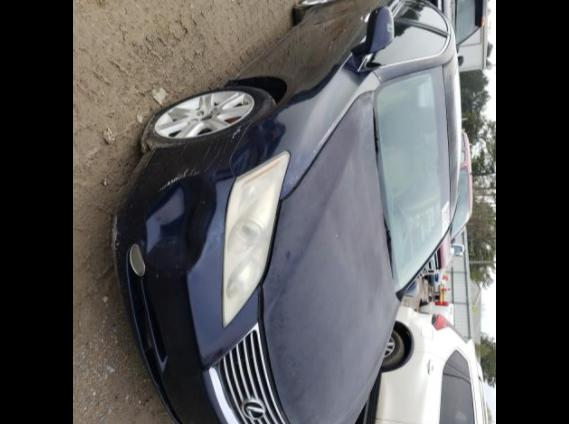Dent: (144, 170, 216, 278), (232, 142, 262, 174)
Scratch: (204, 144, 224, 172), (212, 144, 228, 174), (156, 174, 182, 192), (202, 142, 214, 162), (230, 123, 242, 142), (112, 216, 118, 249), (180, 142, 188, 156), (188, 164, 196, 174), (181, 166, 188, 176), (192, 166, 200, 174), (214, 138, 220, 148), (156, 274, 160, 276), (202, 200, 204, 204)
